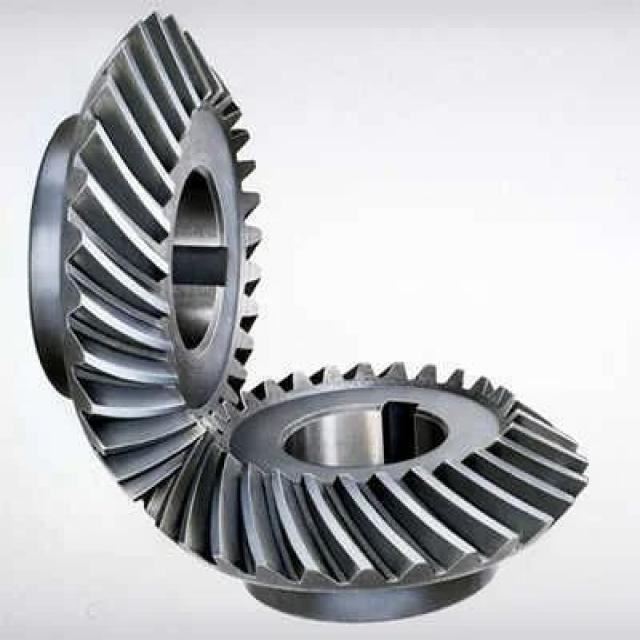Gear: (141, 361, 591, 626), (27, 9, 264, 506)
